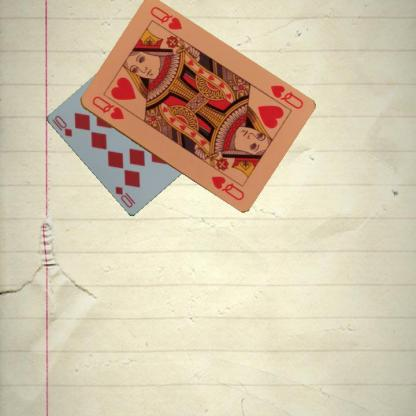10d: (49, 113, 73, 138)
Qh: (268, 82, 304, 111), (89, 93, 125, 121)
